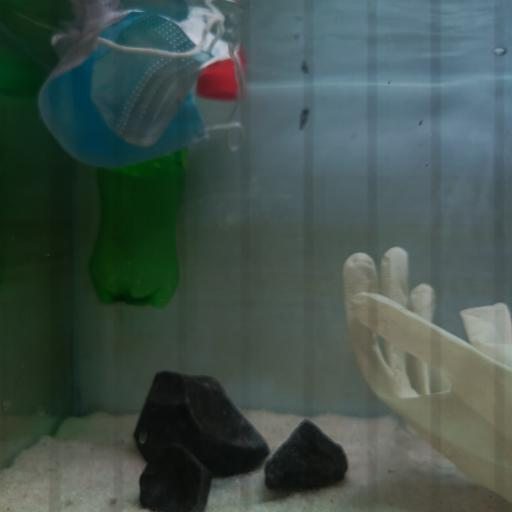bottle_cap: (197, 72, 237, 99)
glove: (341, 244, 512, 503)
mask: (39, 14, 243, 170)
plastic_bottle: (88, 144, 185, 309)
